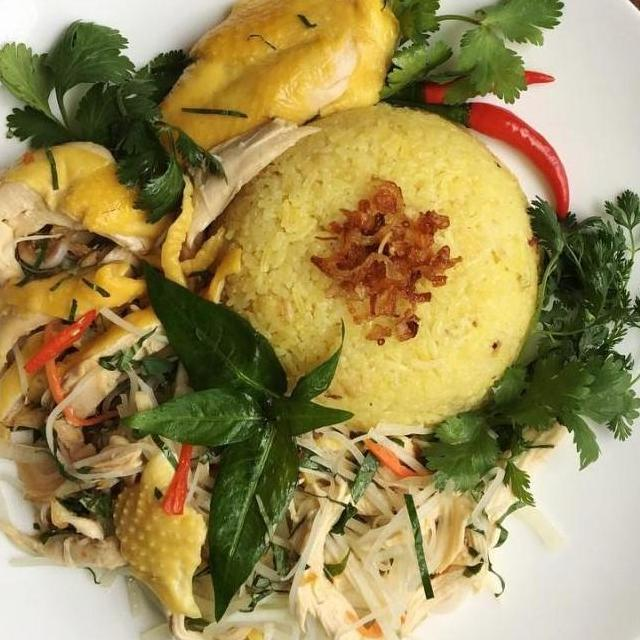com: (191, 100, 551, 433)
com ga: (0, 0, 640, 640)
rau ram: (114, 247, 360, 632)
thit ga: (0, 130, 215, 624), (142, 0, 405, 183), (280, 470, 398, 640)
